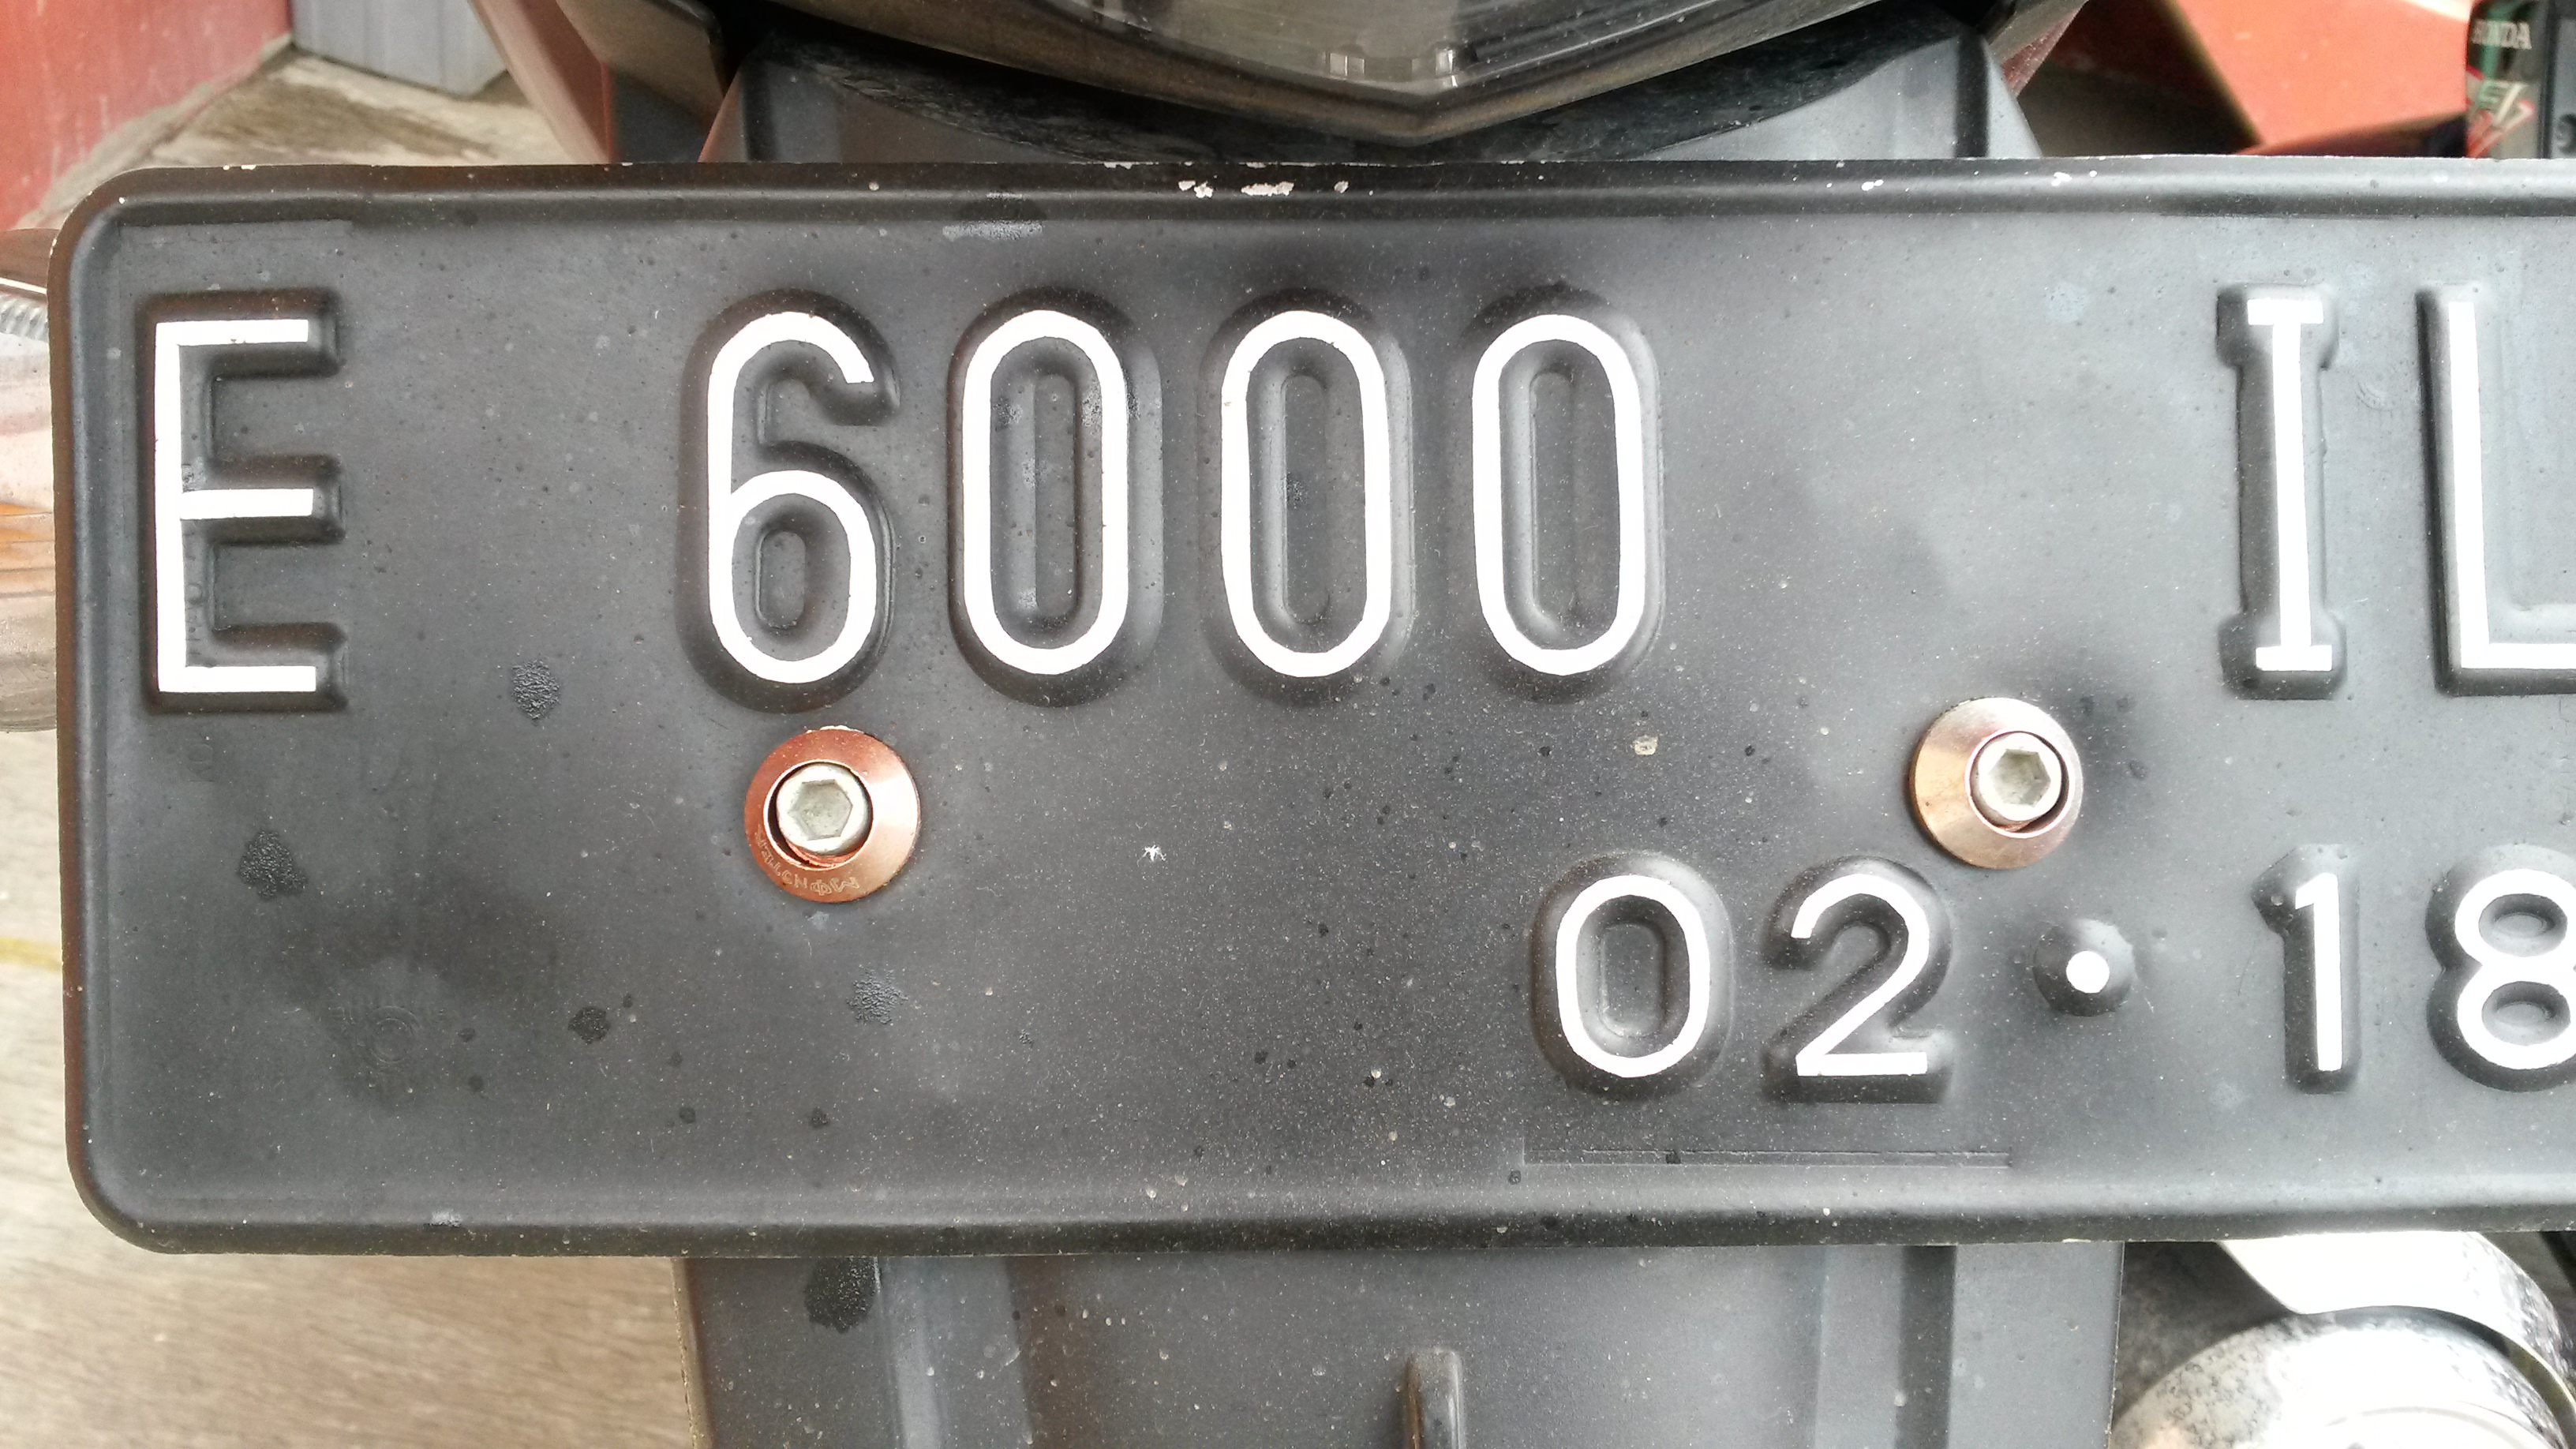plate: (43, 166, 2576, 1237)
